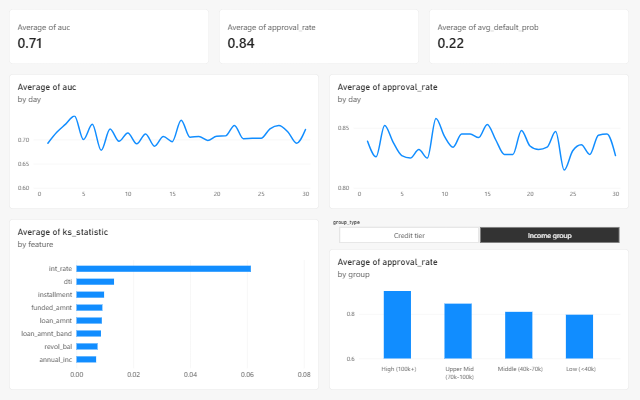

Layout of this report page (visuals, bound fields, positions):
{"tool":"powerbi","page":{"name":"Page 1","canvas":[1920,1080],"ordinal":0},"visuals":[{"type":"cardVisual","fields":{"Data":["Avg(monitoring_daily.auc)"]},"box":[20,20,400,110],"z":0},{"type":"cardVisual","fields":{"Data":["Avg(monitoring_daily.approval_rate)"]},"box":[440,20,400,110],"z":1000},{"type":"cardVisual","fields":{"Data":["Avg(monitoring_daily.avg_default_prob)"]},"box":[860,20,400,110],"z":2000},{"type":"lineChart","fields":{"Category":["monitoring_daily.day"],"Y":["Avg(monitoring_daily.auc)"]},"box":[20,150,620,270],"z":3000},{"type":"lineChart","fields":{"Category":["monitoring_daily.day"],"Y":["Avg(monitoring_daily.approval_rate)"]},"box":[660,150,600,270],"z":4000},{"type":"clusteredBarChart","fields":{"Category":["feature_drift.feature"],"Y":["Avg(feature_drift.ks_statistic)"]},"box":[20,440,620,342],"z":4001},{"type":"slicer","fields":{"Values":["fairness_approval.group_type"]},"box":[660,440,600,50],"z":4002},{"type":"clusteredColumnChart","fields":{"Category":["fairness_approval.group"],"Y":["Avg(fairness_approval.approval_rate)"]},"box":[660,500,600,282],"z":4003}]}

Visuals, with their boxes on the page's 1920x1080 design canvas (x1, y1, x2, y2). These are canvas units, not pixel positions in the 640x400 screenshot, which may show the page scaled, cropped or inside an application window:
cardVisual - Avg(monitoring_daily.auc): pyautogui.locateOnScreen(20, 20, 420, 130)
cardVisual - Avg(monitoring_daily.approval_rate): pyautogui.locateOnScreen(440, 20, 840, 130)
cardVisual - Avg(monitoring_daily.avg_default_prob): pyautogui.locateOnScreen(860, 20, 1260, 130)
lineChart - monitoring_daily.day x Avg(monitoring_daily.auc): pyautogui.locateOnScreen(20, 150, 640, 420)
lineChart - monitoring_daily.day x Avg(monitoring_daily.approval_rate): pyautogui.locateOnScreen(660, 150, 1260, 420)
clusteredBarChart - feature_drift.feature x Avg(feature_drift.ks_statistic): pyautogui.locateOnScreen(20, 440, 640, 782)
slicer - fairness_approval.group_type: pyautogui.locateOnScreen(660, 440, 1260, 490)
clusteredColumnChart - fairness_approval.group x Avg(fairness_approval.approval_rate): pyautogui.locateOnScreen(660, 500, 1260, 782)
